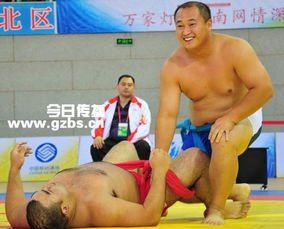falling: (0, 127, 252, 225)
